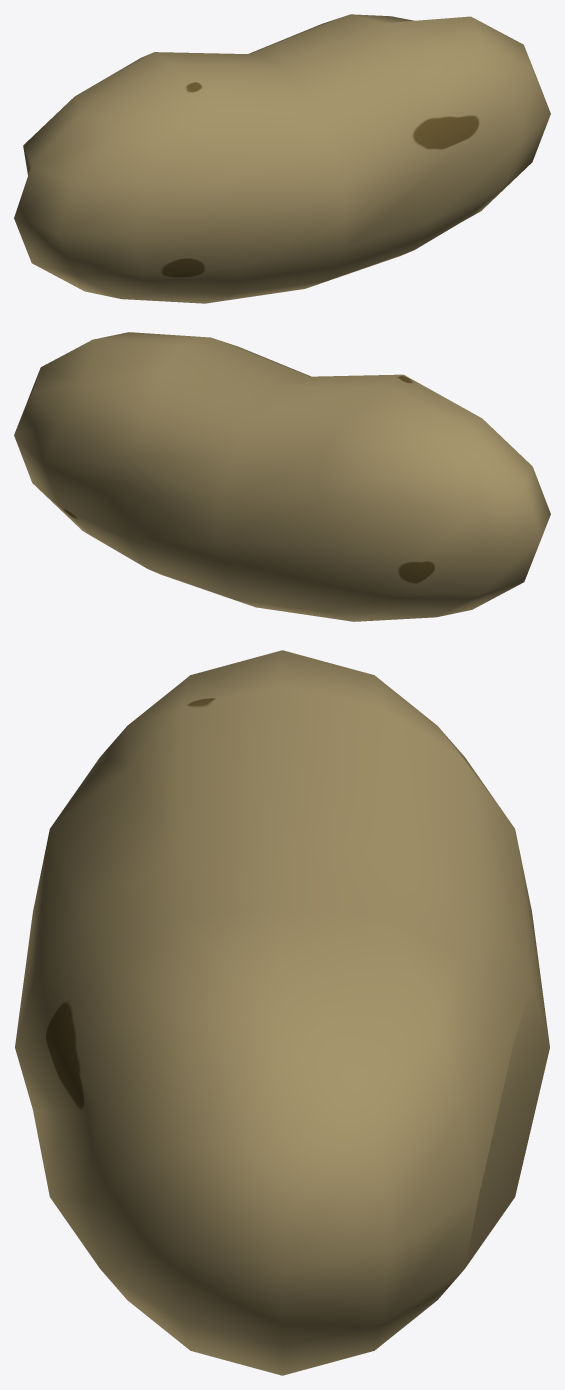
The model's file is Potato.fbx.
3 views of the same model, one above another, from view 1: azimuth 30°, elevation 25°; view 2: azimuth 150°, elevation 25°; view 3: azimuth 270°, elevation 25° (orthographic). The views are drawn at different scales.
Parts seen in each view (by area): view 1: pCube1; view 2: pCube1; view 3: pCube1.
Boxes of the visible parts, box(x1,y1,x2,y2) form: pCube1: box(14, 14, 550, 303); pCube1: box(14, 332, 550, 621); pCube1: box(15, 650, 549, 1375).
Bounding box in the file's own units: 1.97 × 0.849 × 0.8785.
1 material, 1 textured.
